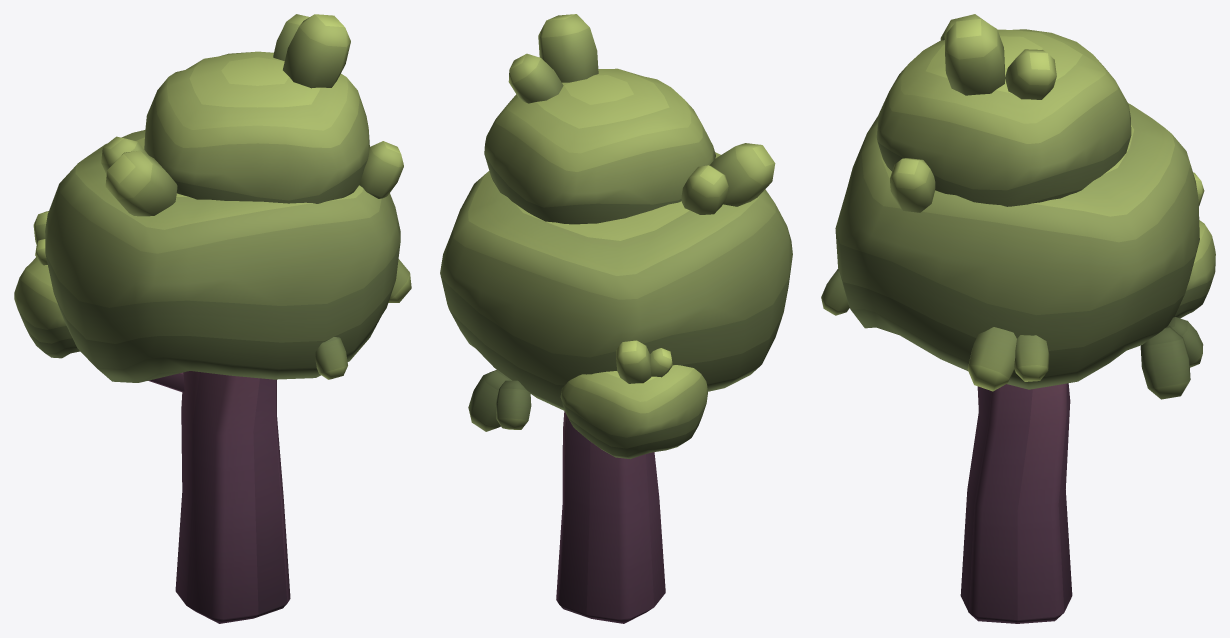
The model's file is grassland_tree_col1_6.fbx.
The picture shows the model from 3 angles, left to right: view 1: azimuth 30°, elevation 25°; view 2: azimuth 150°, elevation 25°; view 3: azimuth 270°, elevation 25°; orthographic projection. The views are drawn at different scales.
Parts seen in each view (by area): view 1: grassland_tree_col1_6; view 2: grassland_tree_col1_6; view 3: grassland_tree_col1_6.
Part boxes in pixels (x1,y1,x2,y2): grassland_tree_col1_6: (14, 14, 411, 623); grassland_tree_col1_6: (440, 14, 792, 623); grassland_tree_col1_6: (821, 14, 1215, 623).
Bounding box in the file's own units: 460 × 793 × 458.
